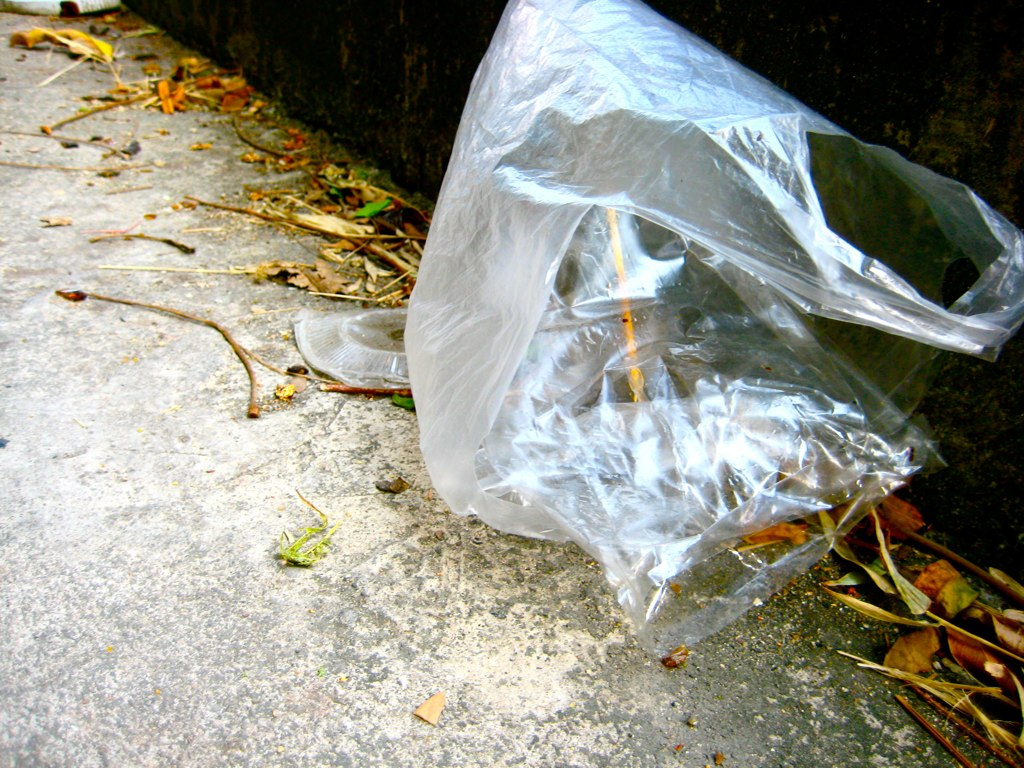plastic_bagwdw: (285, 2, 1024, 694)
